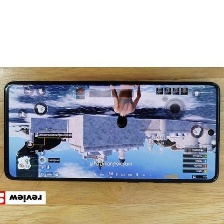phone: (0, 75, 222, 185)
